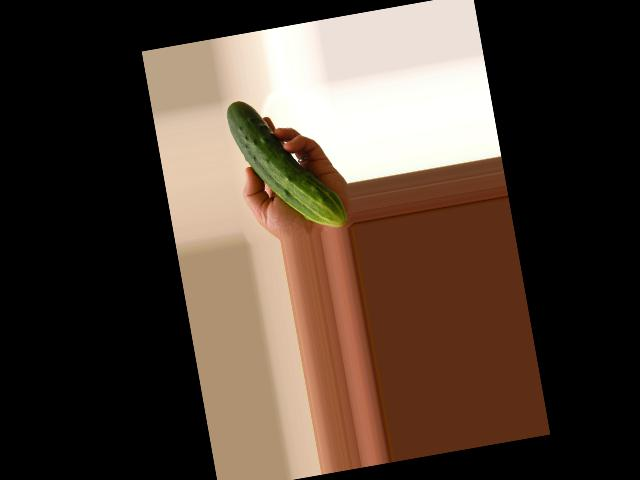cucumber: (225, 86, 348, 241)
